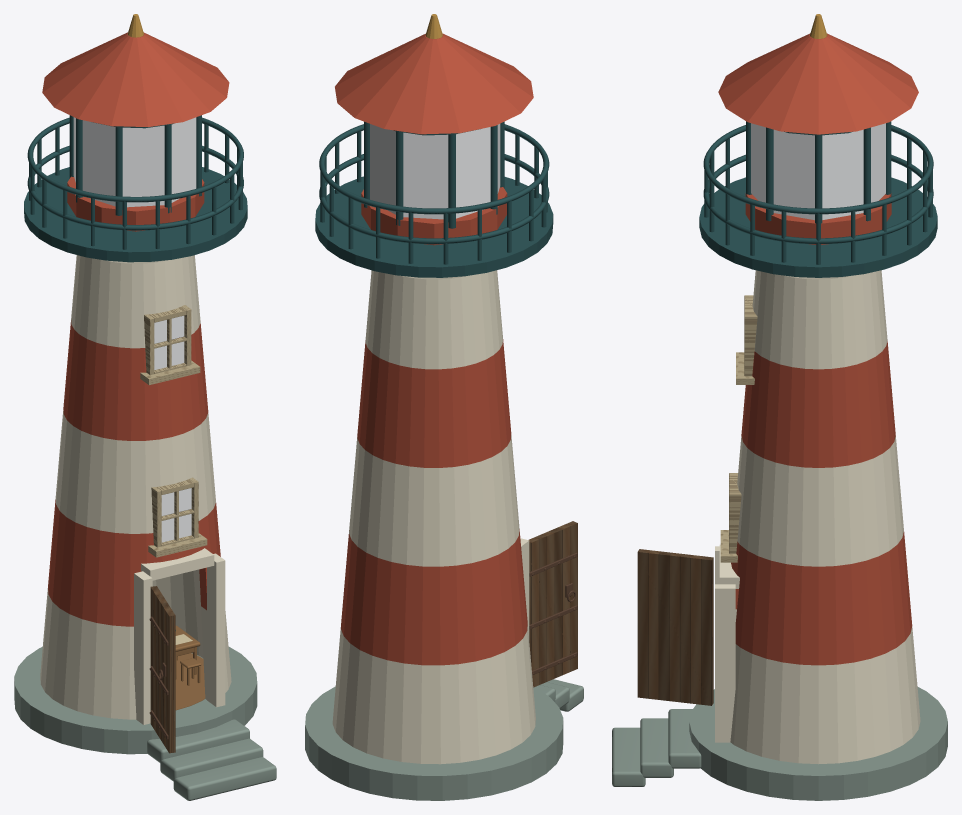
File: Lighthouse.fbx
3 views of the same model, side by side, from view 1: azimuth 30°, elevation 25°; view 2: azimuth 150°, elevation 25°; view 3: azimuth 270°, elevation 25° (orthographic). The views are drawn at different scales.
Visible parts, largest first — view 1: SM_Red_roof, SM_Tower_band_02, SM_Tower_band_00, SM_Tower_band_03, SM_Tower_band_01, SM_Stone_foundation, SM_Tower_band_04, SM_Gallery_floor, SM_Door_Open, SM_Lantern_Glass_05, SM_Entry_jamb.001, SM_Entry_step.002 (+17 smaller); view 2: SM_Tower_band_00, SM_Tower_band_01, SM_Tower_band_02, SM_Tower_band_03, SM_Red_roof, SM_Stone_foundation, SM_Tower_band_04, SM_Gallery_floor, SM_Door_Open, SM_Lantern_Glass_02, SM_Lantern_base, SM_Lantern_Glass_03 (+7 smaller); view 3: SM_Tower_band_00, SM_Tower_band_01, SM_Tower_band_02, SM_Tower_band_03, SM_Red_roof, SM_Stone_foundation, SM_Tower_band_04, SM_Door_Open, SM_Gallery_floor, SM_Lantern_Glass_00, SM_Lantern_Glass_07, SM_Entry_jamb.001 (+13 smaller).
Part boxes in pixels (<box>): SM_Red_roof: <box>42,32,229,126</box>; SM_Tower_band_02: <box>55,410,215,533</box>; SM_Tower_band_00: <box>40,570,231,719</box>; SM_Tower_band_03: <box>63,320,208,440</box>; SM_Tower_band_01: <box>48,499,220,626</box>; SM_Stone_foundation: <box>14,647,257,754</box>; SM_Tower_band_04: <box>71,255,200,348</box>; SM_Gallery_floor: <box>24,167,247,262</box>; SM_Door_Open: <box>150,586,175,753</box>; SM_Lantern_Glass_05: <box>122,125,164,207</box>; SM_Entry_jamb.001: <box>207,553,225,707</box>; SM_Entry_step.002: <box>173,757,276,800</box>; SM_Tower_band_00: <box>332,624,535,764</box>; SM_Tower_band_01: <box>340,529,527,665</box>; SM_Tower_band_02: <box>349,435,519,566</box>; SM_Tower_band_03: <box>357,339,511,467</box>; SM_Red_roof: <box>335,33,533,134</box>; SM_Stone_foundation: <box>305,686,563,800</box>; SM_Tower_band_04: <box>365,270,502,369</box>; SM_Gallery_floor: <box>315,176,553,277</box>; SM_Door_Open: <box>528,521,577,687</box>; SM_Lantern_Glass_02: <box>403,132,448,219</box>; SM_Lantern_base: <box>361,187,507,245</box>; SM_Lantern_Glass_03: <box>456,127,490,218</box>; SM_Tower_band_00: <box>730,609,920,764</box>; SM_Tower_band_01: <box>731,532,912,665</box>; SM_Tower_band_02: <box>737,435,903,566</box>; SM_Tower_band_03: <box>741,341,895,467</box>; SM_Red_roof: <box>718,33,918,134</box>; SM_Stone_foundation: <box>689,687,947,800</box>; SM_Tower_band_04: <box>752,270,887,369</box>; SM_Door_Open: <box>637,549,713,705</box>; SM_Gallery_floor: <box>699,177,937,277</box>; SM_Lantern_Glass_00: <box>822,129,863,219</box>; SM_Lantern_Glass_07: <box>773,129,814,220</box>; SM_Entry_jamb.001: <box>715,584,735,742</box>.
Bounding box in the file's own units: 561 × 1794 × 728.
14 materials, 2 textured.
